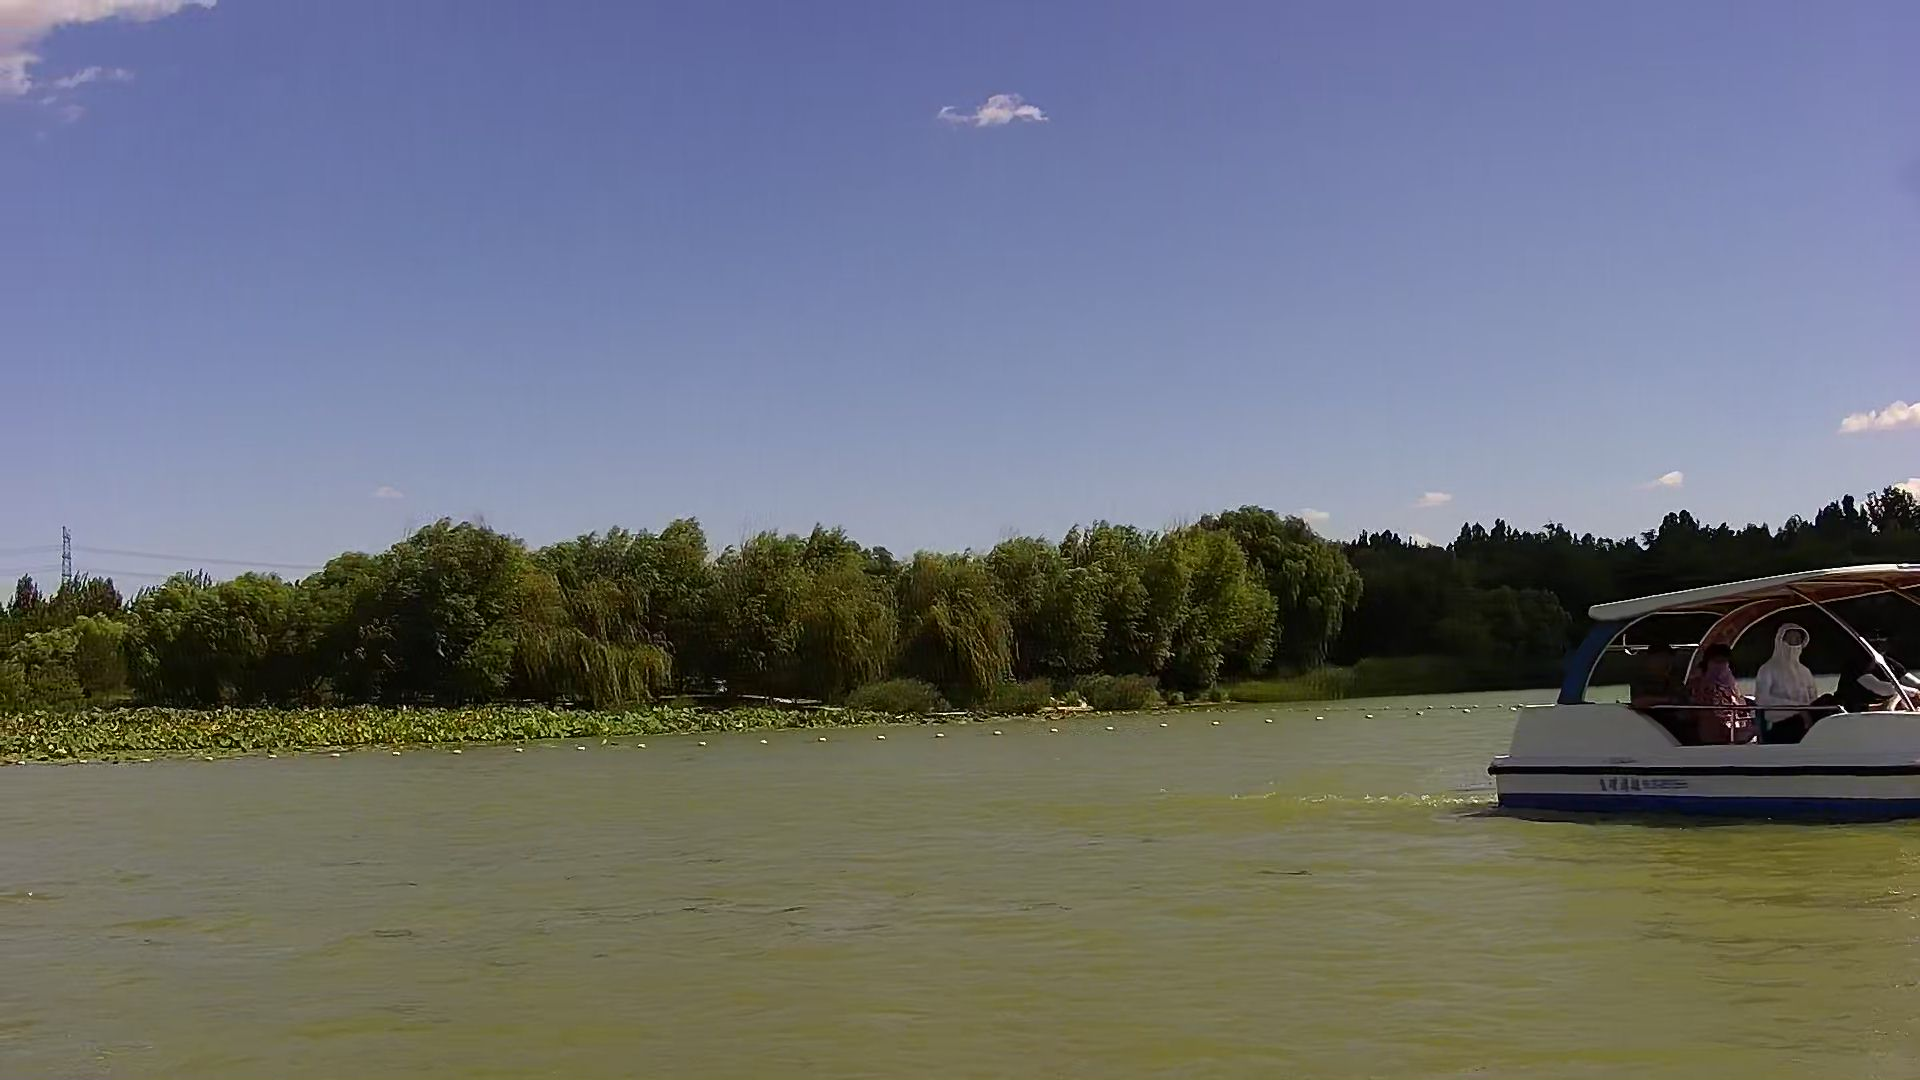boat: (1477, 560, 1920, 824)
